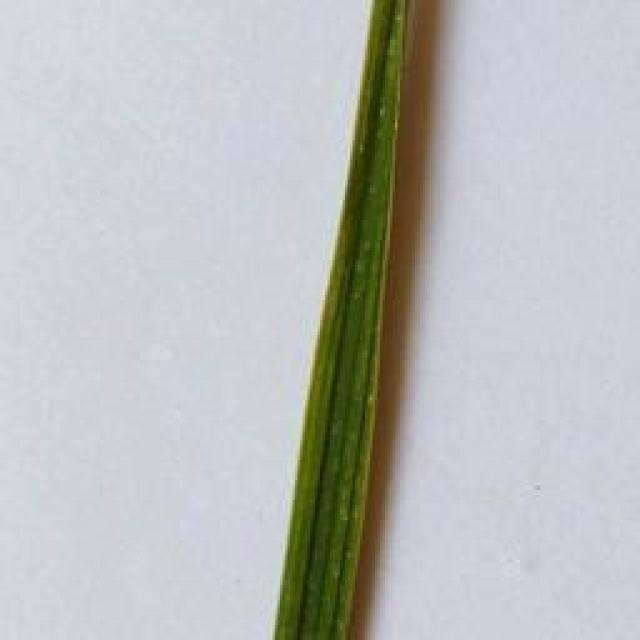Healthy-Plant: (269, 0, 423, 640)
